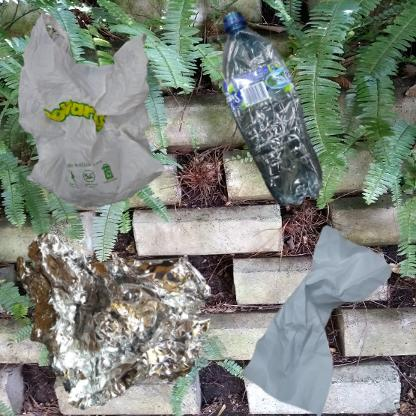aluminio: (10, 213, 226, 416)
bolsa: (10, 10, 177, 216)
botella: (213, 10, 335, 213)
papel: (213, 213, 416, 416)
